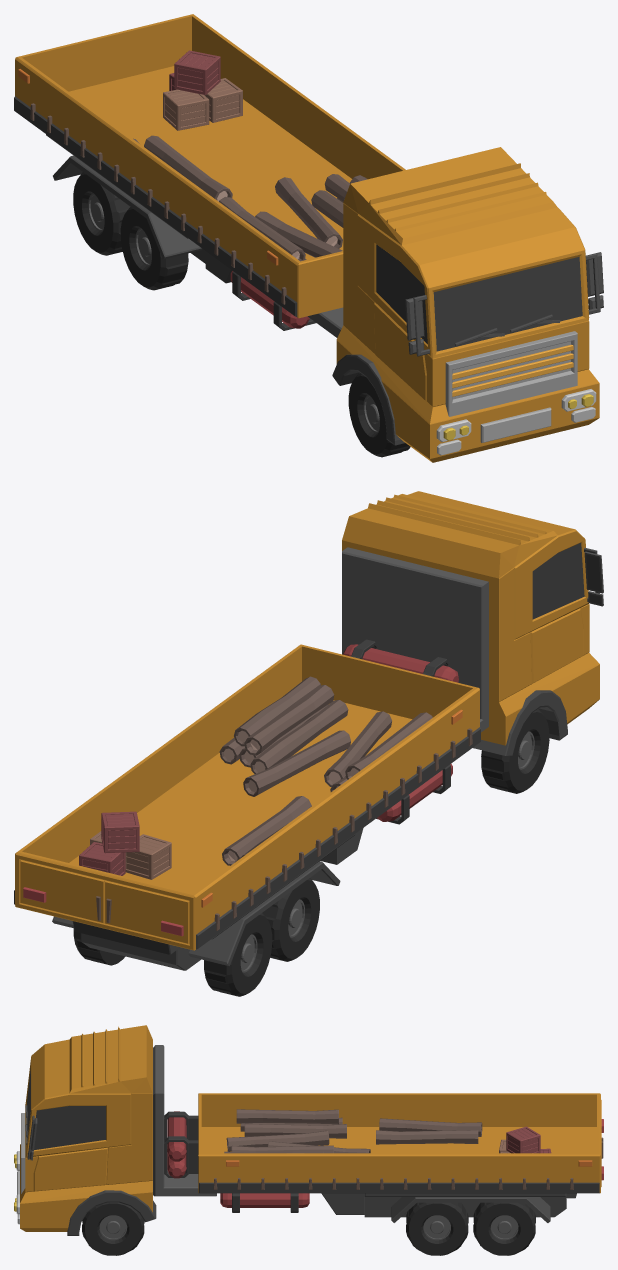
The picture shows the model from 3 angles, top to bottom: view 1: azimuth 30°, elevation 25°; view 2: azimuth 150°, elevation 25°; view 3: azimuth 270°, elevation 25°; orthographic projection. The views are drawn at different scales.
Visible parts, largest first — view 1: truck_a03_001, Box2100, Box2104, Cylinder168, Cylinder189, Cylinder169, Box2142, Line374, Box2144, Box2096, OilTank016, Line373; view 2: truck_a03_001, Box2100, Line373, Cylinder189, Cylinder168, Cylinder169, Box2144, OilTank016, Box2142, Box2096, Rectangle057; view 3: truck_a03_001, Box2100, Cylinder189, Cylinder168, Cylinder169, Line373, OilTank016, Rectangle057, Box2144, Box2096, Box2104, Line374.
Part boxes in pixels (<box>): truck_a03_001: <box>14,14,582,432</box>; Box2100: <box>336,147,599,462</box>; Box2104: <box>436,331,596,455</box>; Cylinder168: <box>73,172,410,457</box>; Cylinder189: <box>133,135,367,261</box>; Cylinder169: <box>46,134,404,445</box>; Box2142: <box>163,78,242,130</box>; Line374: <box>405,252,603,356</box>; Box2144: <box>169,50,220,94</box>; Box2096: <box>30,103,286,304</box>; OilTank016: <box>230,271,309,328</box>; Line373: <box>308,199,344,337</box>; truck_a03_001: <box>14,543,600,972</box>; Box2100: <box>342,491,599,745</box>; Line373: <box>342,547,488,732</box>; Cylinder189: <box>219,676,432,865</box>; Cylinder168: <box>73,708,549,996</box>; Cylinder169: <box>52,690,567,970</box>; Box2144: <box>79,811,139,875</box>; OilTank016: <box>343,644,458,821</box>; Box2142: <box>90,831,171,879</box>; Box2096: <box>96,728,472,930</box>; Rectangle057: <box>351,639,450,824</box>; truck_a03_001: <box>27,1068,601,1240</box>; Box2100: <box>20,1025,152,1231</box>; Cylinder189: <box>224,1109,482,1153</box>; Cylinder168: <box>82,1202,535,1255</box>; Cylinder169: <box>67,1190,576,1235</box>; Line373: <box>153,1045,216,1196</box>; OilTank016: <box>167,1111,309,1207</box>; Rectangle057: <box>164,1111,298,1212</box>; Box2144: <box>506,1126,551,1153</box>; Box2096: <box>213,1137,603,1189</box>; Box2104: <box>14,1113,25,1224</box>; Line374: <box>25,1105,37,1160</box>.
Size of the model in its own units: 3.29 by 4.07 by 12.11.
Materials: 1 (1 with a texture image).
